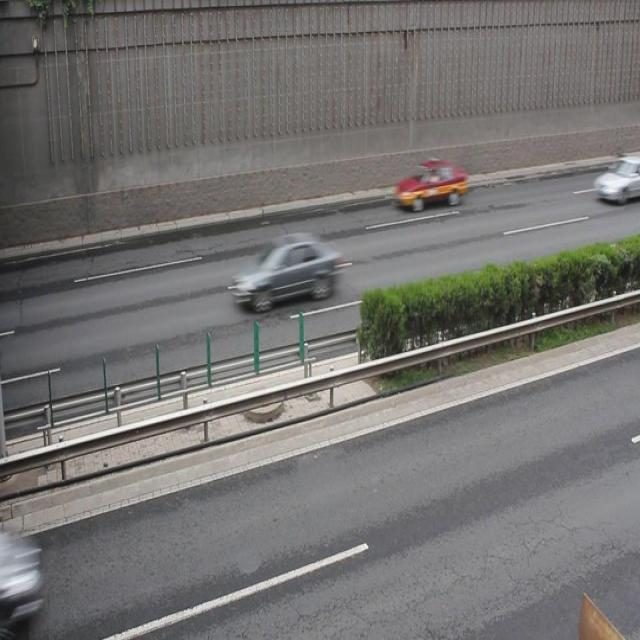car: (233, 231, 338, 311), (394, 157, 466, 212), (591, 157, 640, 203)
